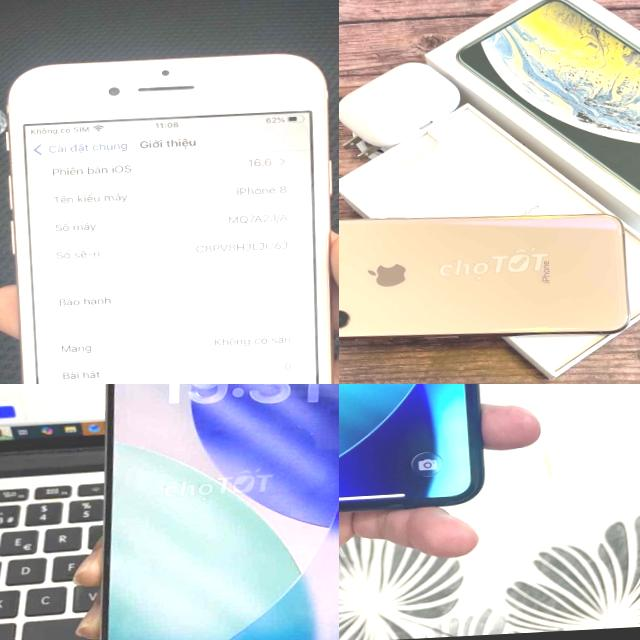gen_11: (339, 384, 500, 518)
gen_15: (76, 384, 339, 640)
gen_7_8: (0, 38, 339, 384)
gen_x_xs: (339, 191, 640, 366)
